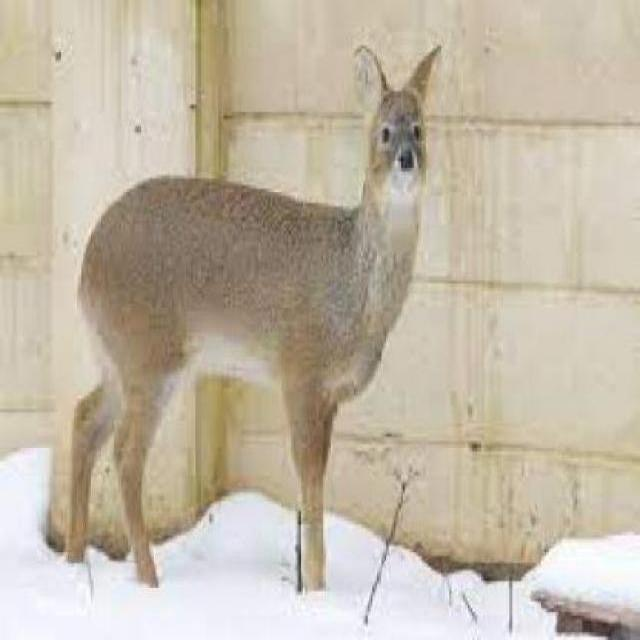deer: (58, 32, 447, 587)
